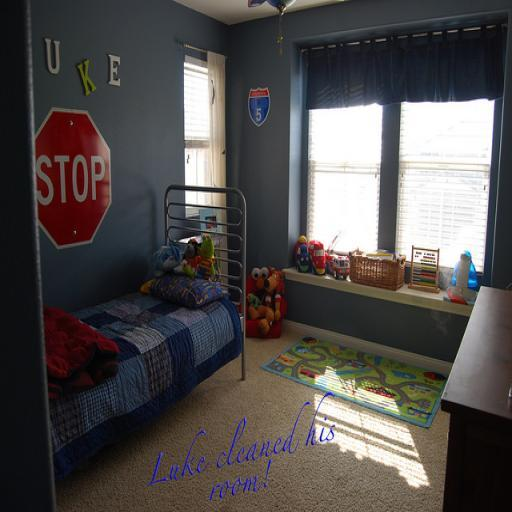bed: (39, 154, 331, 482)
